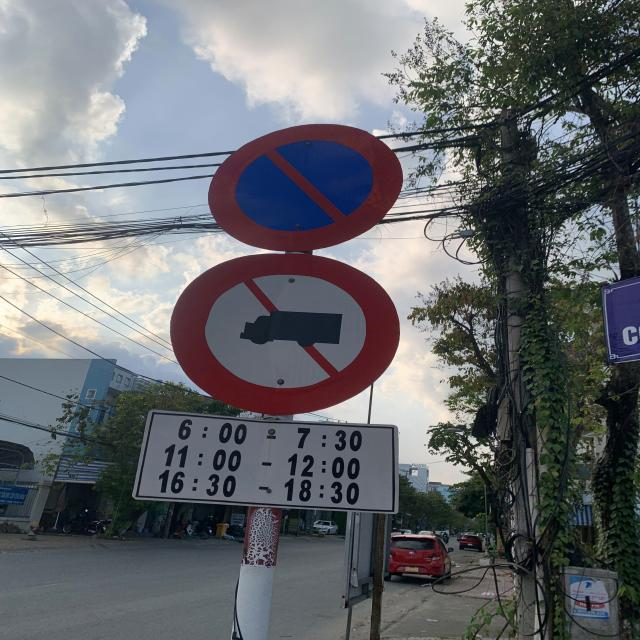Cam_Dau_Xe: (208, 124, 404, 252)
Cam_Xe_Tai: (171, 250, 404, 412)
